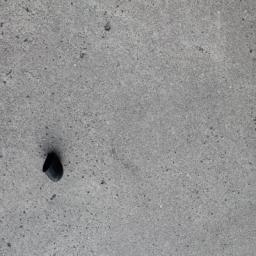FOD: (40, 152, 74, 185)
